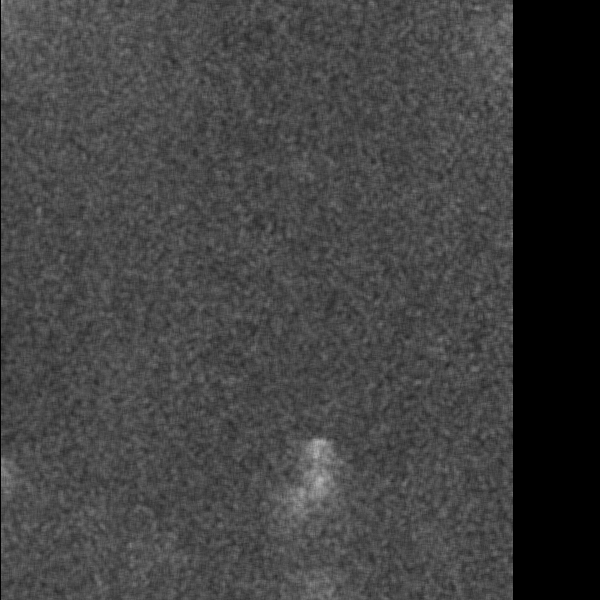spark: (304, 428, 337, 553)
